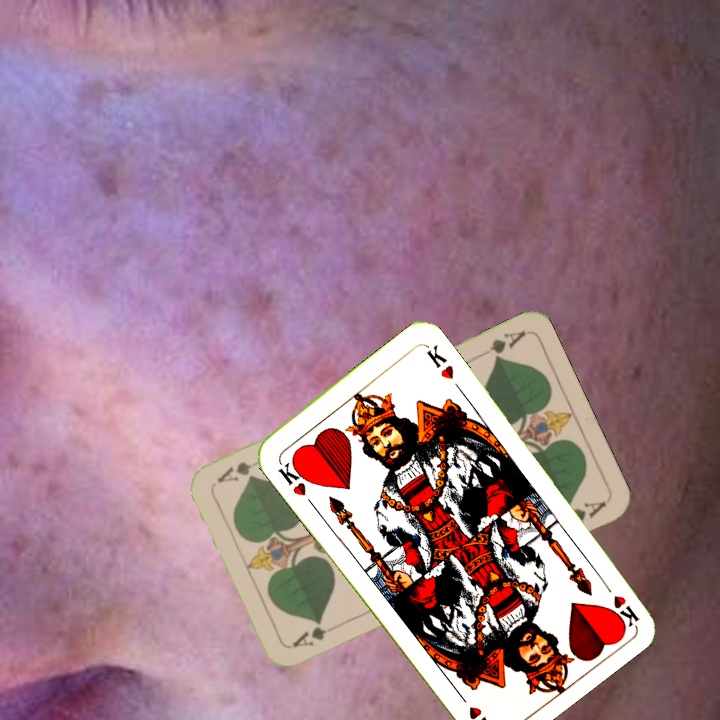GA: (288, 619, 344, 650), (486, 327, 528, 362)
HK: (597, 574, 641, 628), (274, 454, 313, 499)
